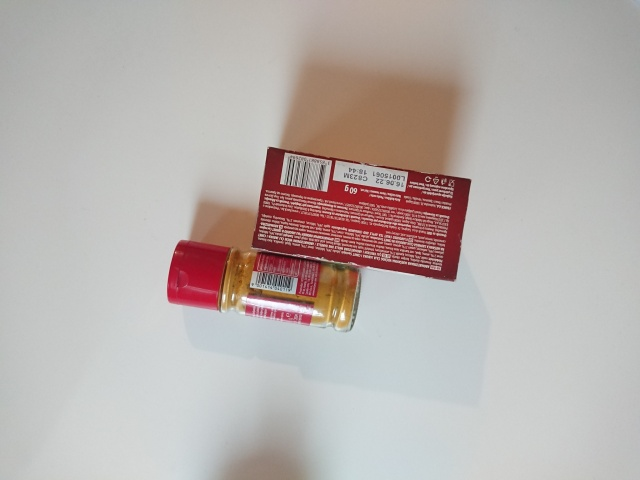Franck Apple Cinnamon Tea 60g: (247, 144, 475, 285)
Kotanyi Curry Spices Mix 70g: (165, 238, 364, 336)
